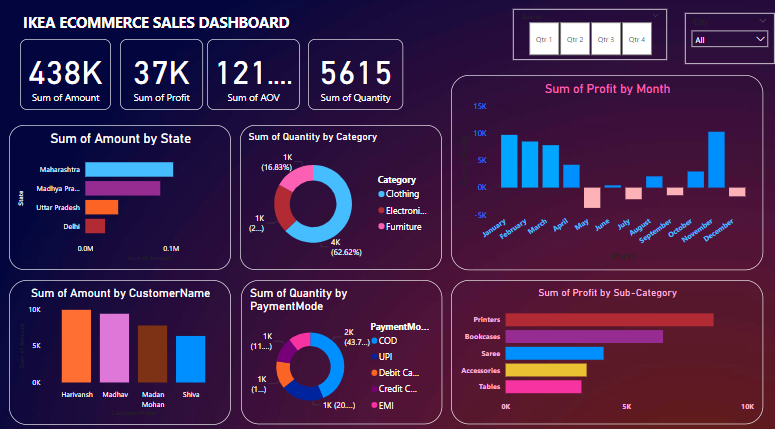

What the dashboard file says about the page in this screenshot:
{"tool":"powerbi","page":{"name":"Page 1","canvas":[1280,720],"ordinal":0},"visuals":[{"type":"columnChart","fields":{"Category":["in (2).Order Date.Variation.Date Hierarchy.Month"],"Y":["in.Profit"]},"box":[745.6,127,514.6,321.6],"z":0},{"type":"textbox","box":[34.6,18.1,461.9,49.5],"z":1000},{"type":"barChart","fields":{"Category":["in.Sub-Category"],"Y":["in.Profit"]},"box":[745.6,465.2,514.6,237.5],"z":2000},{"type":"donutChart","fields":{"Y":["in.Quantity"],"Category":["in.Category"]},"box":[397.5,209.5,333.2,239.2],"z":3000},{"type":"donutChart","fields":{"Category":["in.PaymentMode"],"Y":["in.Quantity"]},"box":[399.2,465.2,331.5,237.5],"z":4000},{"type":"clusteredBarChart","fields":{"Category":["in (2).State"],"Y":["in.Amount"]},"box":[16.5,209.5,366.2,239.2],"z":5000},{"type":"clusteredColumnChart","fields":{"Y":["in.Amount"],"Category":["in (2).CustomerName"]},"box":[16.5,465.2,366.2,239.2],"z":6000},{"type":"card","fields":{"Values":["in.Amount"]},"box":[34.6,67.6,150.1,117.1],"z":7000},{"type":"card","fields":{"Values":["in.Profit"]},"box":[199.6,67.6,136.9,117.1],"z":8000},{"type":"card","fields":{"Values":["in.Quantity"]},"box":[509.7,67.6,156.7,117.1],"z":9000},{"type":"card","fields":{"Values":["in.AOV"]},"box":[343.1,67.6,153.4,117.1],"z":10000},{"type":"slicer","fields":{"Values":["in (2).Order Date.Variation.Date Hierarchy.Quarter"]},"box":[847.8,18.1,254,84.1],"z":11000},{"type":"slicer","fields":{"Values":["in (2).City"]},"box":[1131.5,24.7,148.5,84.1],"z":12000}]}

Visuals, with their boxes in screenshot pixels (x1, y1, x2, y2), scaled from the page's 1280x720 canvas onto the 775x429 screenshot:
columnChart - in (2).Order Date.Variation.Date Hierarchy.Month x in.Profit: {"x1": 451, "y1": 76, "x2": 763, "y2": 267}
textbox: {"x1": 21, "y1": 11, "x2": 301, "y2": 40}
barChart - in.Sub-Category x in.Profit: {"x1": 451, "y1": 277, "x2": 763, "y2": 419}
donutChart - in.Quantity x in.Category: {"x1": 241, "y1": 125, "x2": 442, "y2": 267}
donutChart - in.PaymentMode x in.Quantity: {"x1": 242, "y1": 277, "x2": 442, "y2": 419}
clusteredBarChart - in (2).State x in.Amount: {"x1": 10, "y1": 125, "x2": 232, "y2": 267}
clusteredColumnChart - in.Amount x in (2).CustomerName: {"x1": 10, "y1": 277, "x2": 232, "y2": 420}
card - in.Amount: {"x1": 21, "y1": 40, "x2": 112, "y2": 110}
card - in.Profit: {"x1": 121, "y1": 40, "x2": 204, "y2": 110}
card - in.Quantity: {"x1": 309, "y1": 40, "x2": 403, "y2": 110}
card - in.AOV: {"x1": 208, "y1": 40, "x2": 301, "y2": 110}
slicer - in (2).Order Date.Variation.Date Hierarchy.Quarter: {"x1": 513, "y1": 11, "x2": 667, "y2": 61}
slicer - in (2).City: {"x1": 685, "y1": 15, "x2": 774, "y2": 65}
